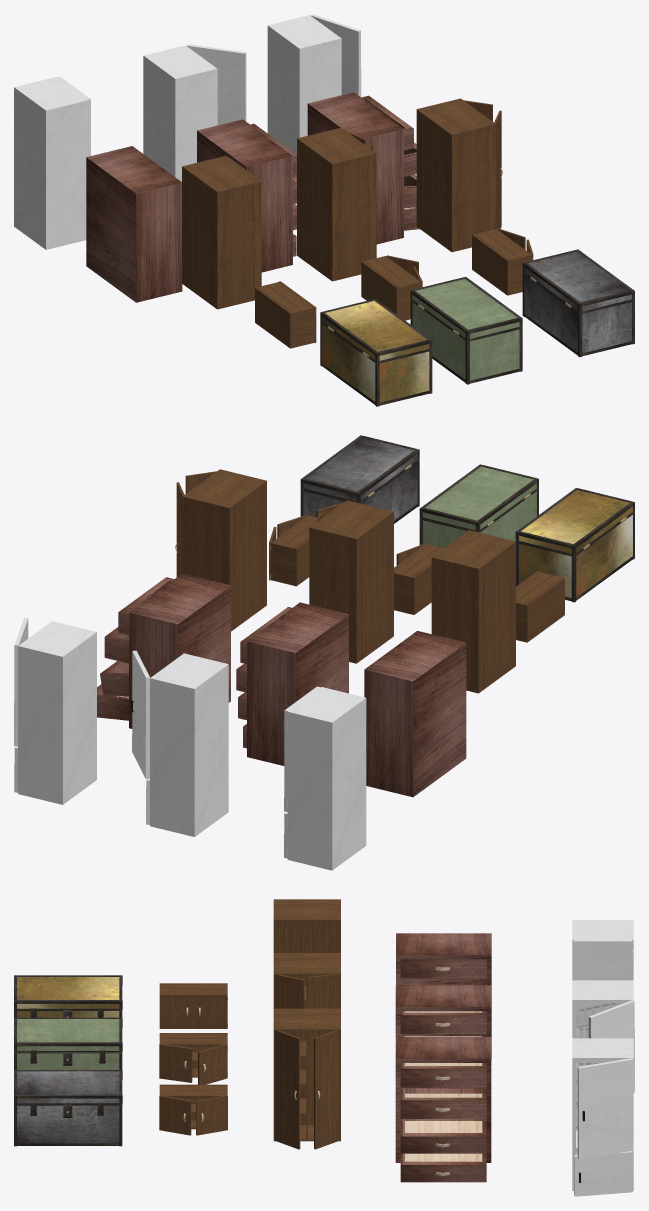
The model's file is containers.fbx.
3 renders of one model, top to bottom at view 1: azimuth 30°, elevation 25°; view 2: azimuth 150°, elevation 25°; view 3: azimuth 270°, elevation 25°, orthographic. The views are drawn at different scales.
Parts seen in each view (by area): view 1: Cube.003, Cube.074, Cube.023, Cube.055, Cube.051, Cube.075, Cube.090, Cube.026, Cube.067, Cube.036, Cube.034, Cube.047 (+13 smaller); view 2: Cube.003, Cube.074, Cube.090, Cube.075, Cube.023, Cube.026, Cube.055, Cube.051, Cube.067, Cube.047, Cube.009, Cube.034 (+14 smaller); view 3: Cube.052, Cube.096, Cube.067, Cube.009, Cube.034, Cube.047, Cube.019, Cube.051, Cube.003, Cube.026, Cube.072, Cube.073 (+25 smaller).
Boxes of the visible parts, box(x1,y1,x2,y2) form: Cube.003: box(86, 146, 182, 302); Cube.074: box(14, 77, 87, 249); Cube.023: box(182, 155, 261, 309); Cube.055: box(297, 127, 376, 281); Cube.051: box(416, 98, 495, 252); Cube.075: box(143, 45, 217, 181); Cube.090: box(267, 15, 341, 177); Cube.026: box(197, 119, 292, 272); Cube.067: box(307, 92, 403, 244); Cube.036: box(322, 324, 429, 402); Cube.034: box(522, 249, 634, 313); Cube.047: box(320, 299, 432, 362); Cube.003: box(364, 631, 466, 797); Cube.074: box(287, 687, 366, 870); Cube.090: box(18, 621, 96, 804); Cube.075: box(150, 653, 228, 836); Cube.023: box(431, 530, 515, 693); Cube.026: box(247, 602, 348, 765); Cube.055: box(309, 500, 393, 663); Cube.051: box(182, 469, 266, 631); Cube.067: box(129, 573, 230, 728); Cube.047: box(515, 488, 634, 555); Cube.009: box(419, 464, 538, 532); Cube.034: box(300, 435, 419, 503); Cube.052: box(275, 1030, 339, 1149); Cube.096: box(577, 1058, 633, 1159); Cube.067: box(395, 1037, 491, 1162); Cube.009: box(14, 1017, 122, 1063); Cube.034: box(14, 1070, 122, 1115); Cube.047: box(14, 975, 122, 1017); Cube.019: box(17, 1105, 119, 1145); Cube.051: box(273, 1008, 340, 1141); Cube.003: box(396, 933, 491, 1058); Cube.026: box(395, 985, 491, 1036); Cube.072: box(400, 1119, 486, 1153); Cube.073: box(400, 1153, 486, 1182).
Bounding box in the file's own units: 2649 × 1328 × 4642.
14 materials, 14 textured.
